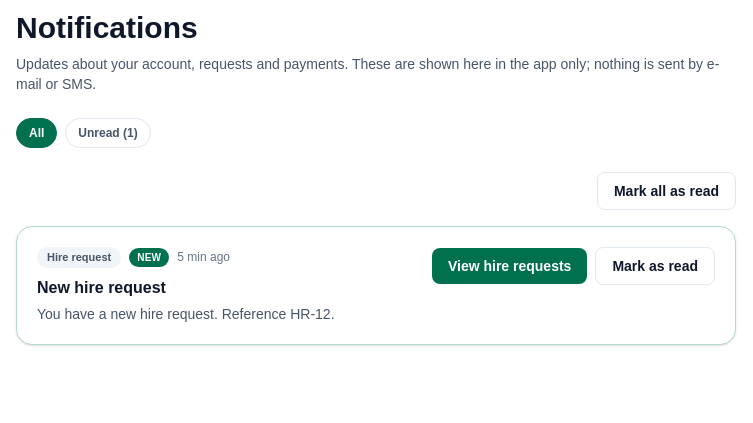
Scenario: notifications page › a notification that no longer exists is explained and the page refreshes to the real list
Click the button "Mark as read": click(655, 266) [595, 247, 715, 285]
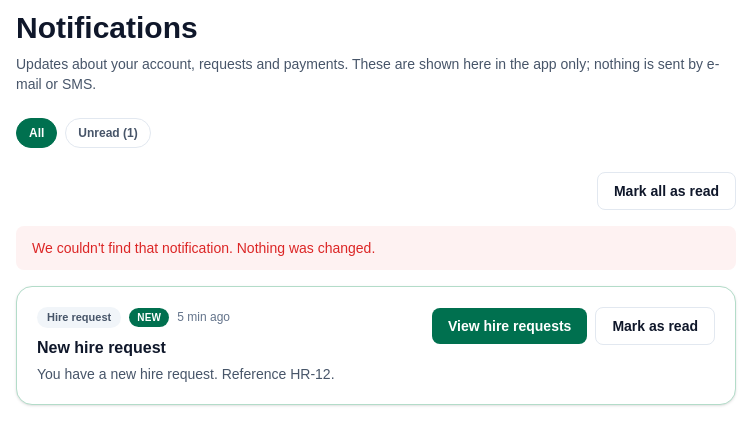
expect the message shows "couldn't find that notification": met, box [32, 240, 375, 256]
